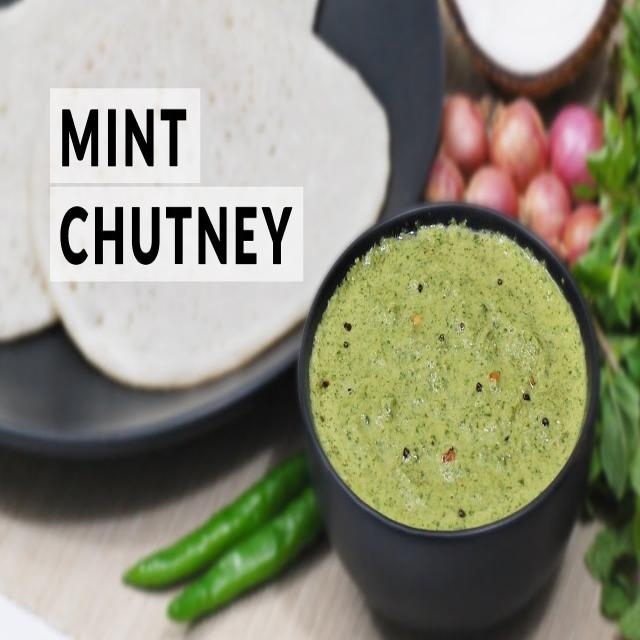puthina chutney: (309, 211, 601, 556)
